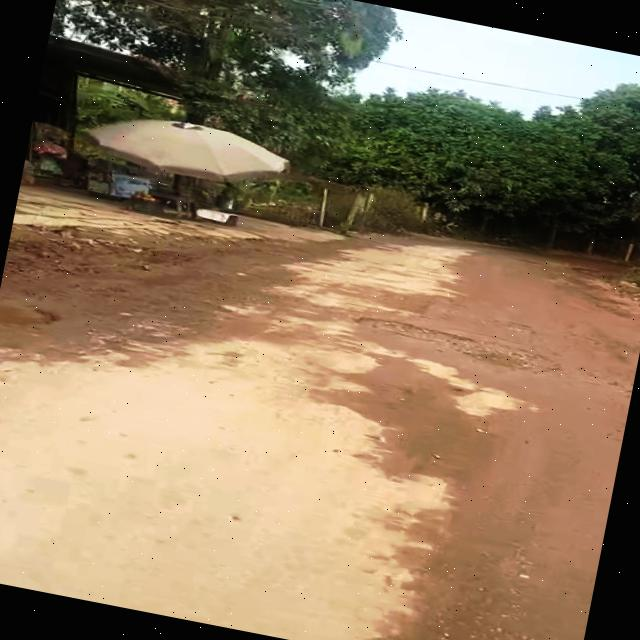pothole: (346, 308, 572, 384), (0, 289, 65, 347)
